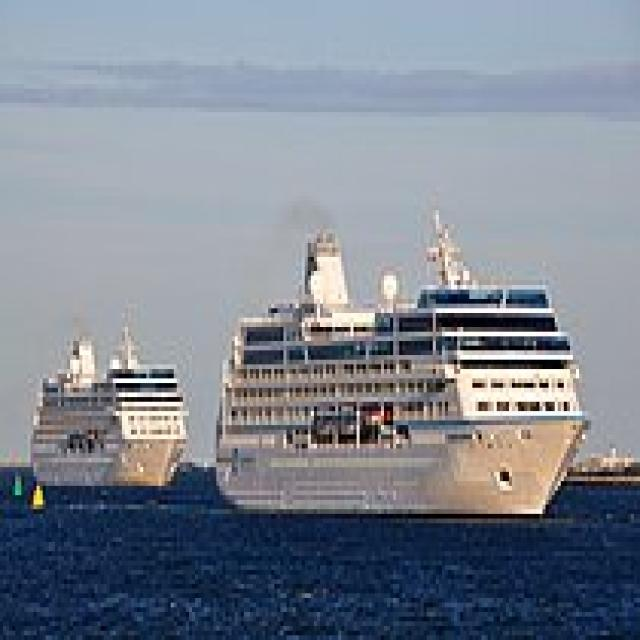Ship: (212, 202, 596, 520), (25, 310, 193, 501)
